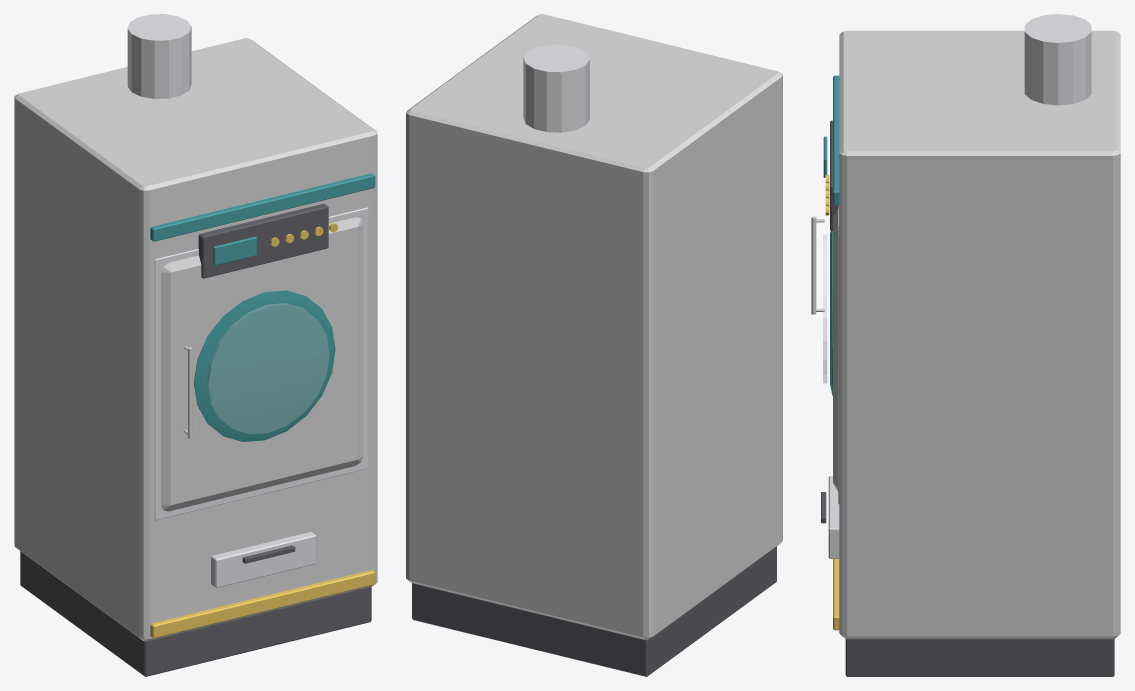
Rendered from dry-cleaners-and-alterations-shop-tumble-dryer-31ff5788__34953.glb.
3 renders of one model, left to right at view 1: azimuth 30°, elevation 25°; view 2: azimuth 150°, elevation 25°; view 3: azimuth 270°, elevation 25°, orthographic. The views are drawn at different scales.
Visible parts, largest first — view 1: tumble-dryer, dryer-door/panel, dryer-door/accent, dryer-door/glass; view 2: tumble-dryer; view 3: tumble-dryer, dryer-door/panel, dryer-door/metal, dryer-door/glass, dryer-door/accent.
Part boxes in pixels (x1,y1,x2,y2): tumble-dryer: [14, 14, 377, 676]; dryer-door/panel: [161, 217, 363, 511]; dryer-door/accent: [194, 290, 335, 441]; dryer-door/glass: [207, 303, 329, 433]; tumble-dryer: [406, 14, 782, 676]; tumble-dryer: [821, 14, 1120, 676]; dryer-door/panel: [833, 209, 838, 491]; dryer-door/metal: [811, 216, 824, 314]; dryer-door/glass: [823, 235, 826, 383]; dryer-door/accent: [830, 231, 832, 395].
Size of the model in its own units: 0.9399 by 2.08 by 0.99.
